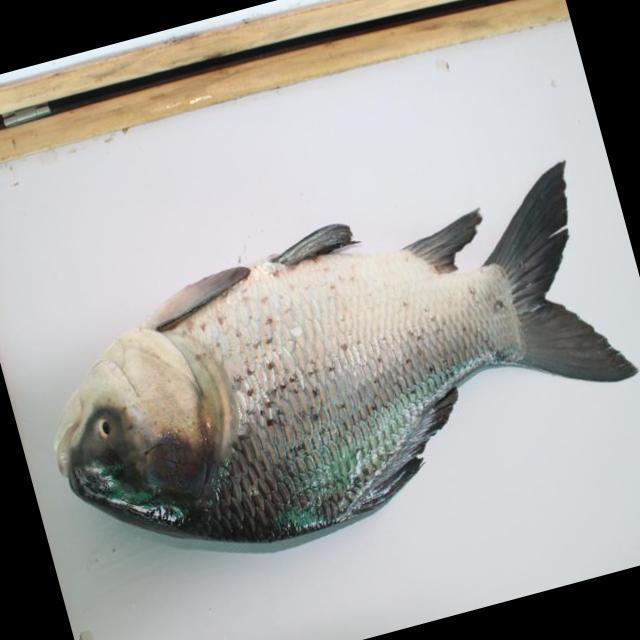Grass Carp: (34, 213, 630, 561)
